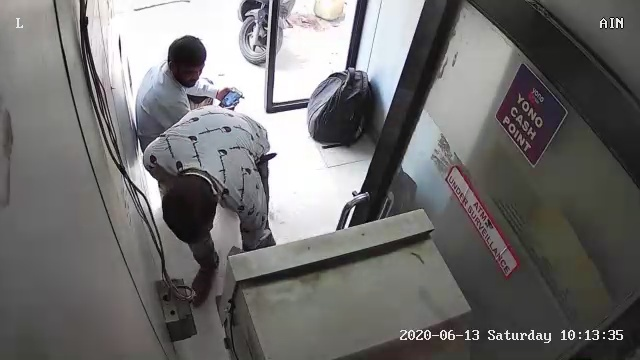open: (236, 3, 395, 135)
